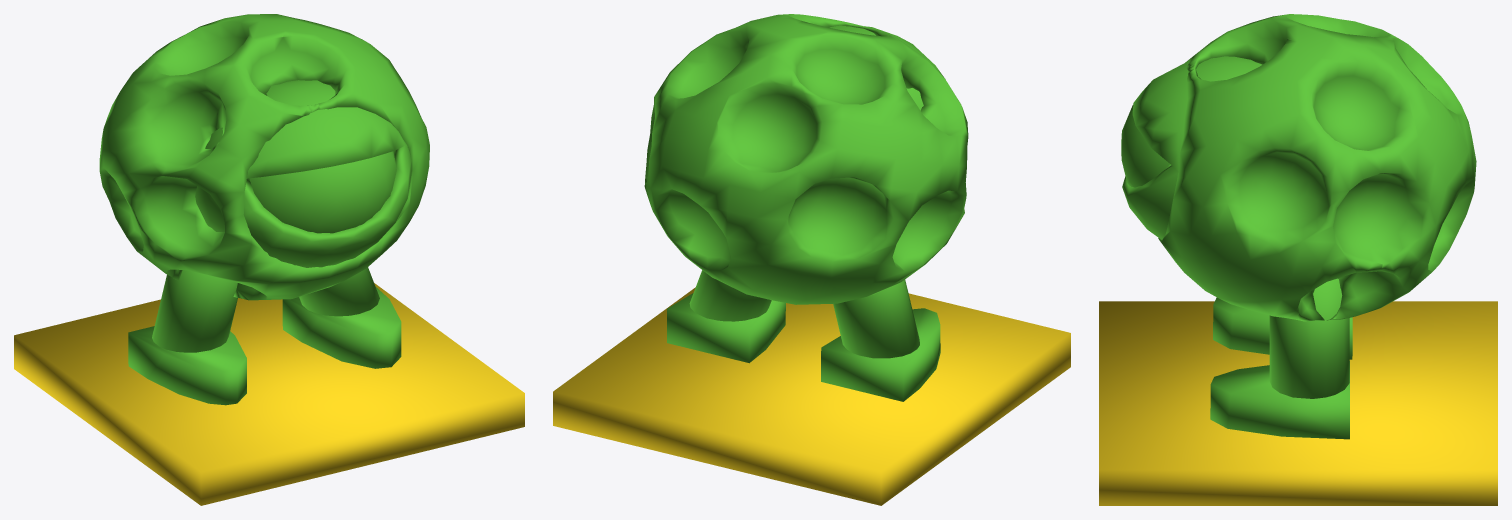
The model's file is adult_6.glb.
3 renders of one model, left to right at view 1: azimuth 30°, elevation 25°; view 2: azimuth 150°, elevation 25°; view 3: azimuth 270°, elevation 25°, orthographic. The views are drawn at different scales.
Parts seen in each view (by area): view 1: figura, basetta; view 2: figura, basetta; view 3: figura, basetta.
Boxes of the visible parts, left/top/right/bottom form: figura: left=99, top=14, right=429, bottom=405; basetta: left=14, top=283, right=524, bottom=505; figura: left=644, top=14, right=968, bottom=401; basetta: left=553, top=287, right=1070, bottom=505; figura: left=1121, top=14, right=1476, bottom=439; basetta: left=1099, top=301, right=1497, bottom=505.
Size of the model in its own units: 0.02 by 0.0215 by 0.02.
